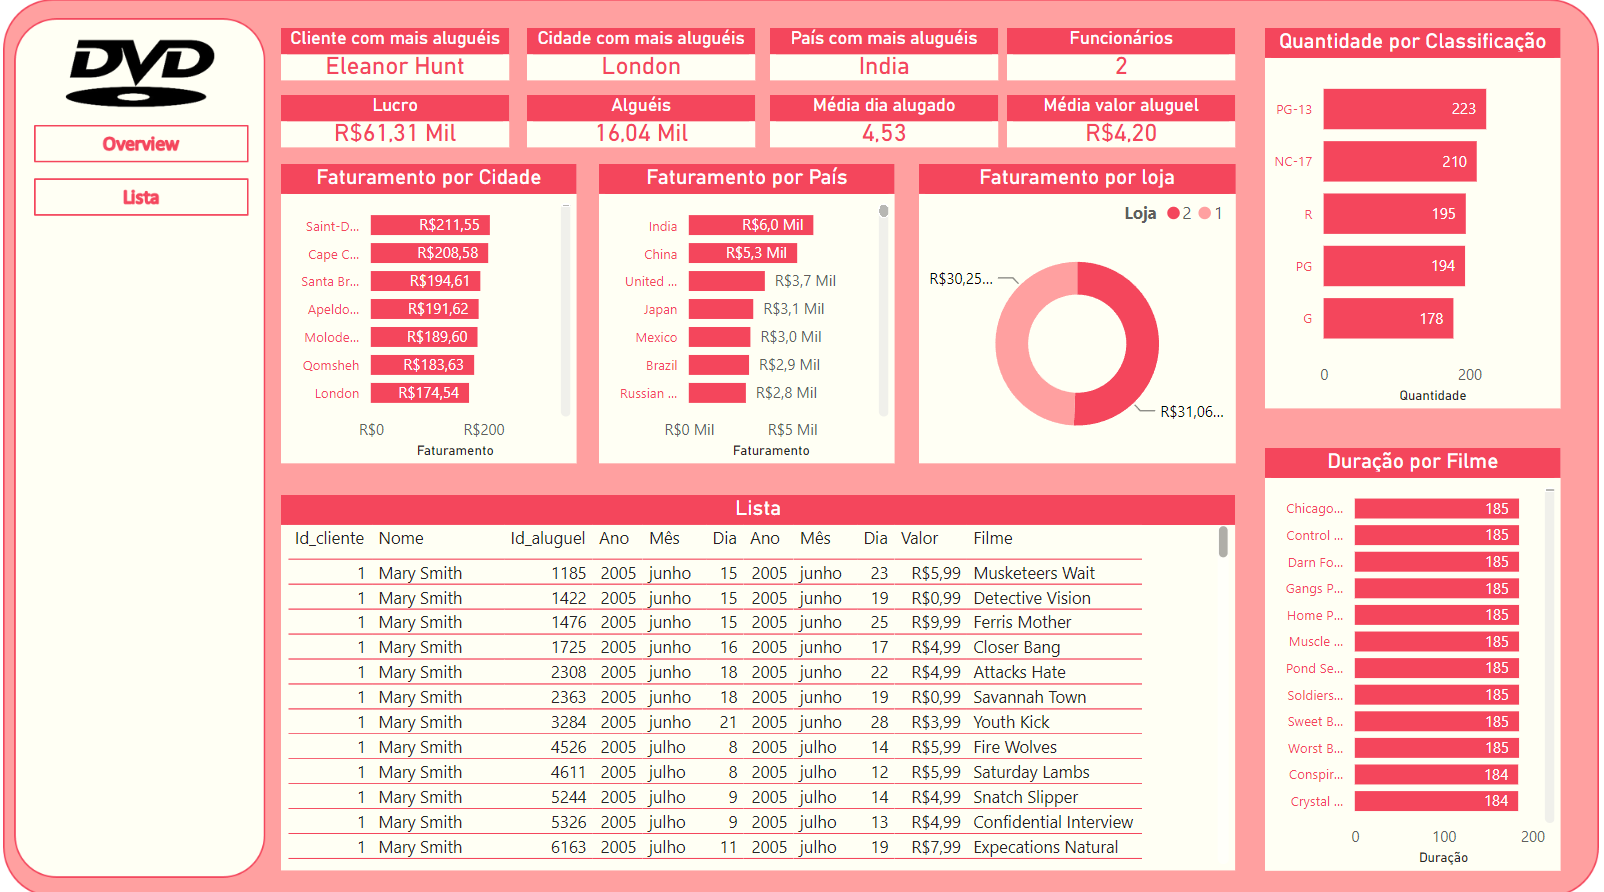

Layout of this report page (visuals, bound fields, positions):
{"tool":"powerbi","page":{"name":"Overview","canvas":[1280,720],"ordinal":0},"visuals":[{"type":"card","title":"Cliente com mais aluguéis","fields":{"Values":["public vw_get_frequent_customers.get_frequent_customer"]},"box":[223.1,23.5,183.1,42],"z":0},{"type":"card","title":"Cidade com mais aluguéis","fields":{"Values":["public vw_get_city_with_more_clients.get_frequent_city"]},"box":[420.5,23.5,183.1,42],"z":1000},{"type":"card","title":"País com mais aluguéis","fields":{"Values":["public vw_get_country_with_more_clients.get_frequent_country"]},"box":[614.9,23.5,183.1,42],"z":2000},{"type":"card","title":"Lucro","fields":{"Values":["Sum(public payment.amount)"]},"box":[223.1,76.7,183.1,42],"z":3000},{"type":"card","title":"Alguéis","fields":{"Values":["CountNonNull(public rental.rental_id)"]},"box":[420.5,76.7,183.1,42],"z":4000},{"type":"card","title":"Funcionários","fields":{"Values":["CountNonNull(public staff.staff_id)"]},"box":[805.2,23.5,183.1,42],"z":5000},{"type":"barChart","fields":{"Category":["public vw_get_amount_per_city.city"],"Y":["Sum(public vw_get_amount_per_city.total_amount)"]},"box":[223.1,132,237.4,240.4],"z":6000},{"type":"barChart","fields":{"Category":["public vw_get_amount_per_country.country"],"Y":["Sum(public vw_get_amount_per_country.total_amount)"]},"box":[477.8,132,237.4,240.4],"z":7000},{"type":"donutChart","title":"Faturamento por loja","fields":{"Category":["public staff.store_id"],"Y":["Sum(public payment.amount)"]},"box":[734.6,132,253.7,240.4],"z":8000},{"type":"card","title":"Média dia alugado","fields":{"Values":["Avg(public vw_get_avg_rental_time.mean_day_rental)"]},"box":[614.9,76.7,183.1,42],"z":9000},{"type":"card","title":"Média valor aluguel","fields":{"Values":["Avg(public vw_get_avg_rental_amount.mean_payment)"]},"box":[805.2,76.7,183.1,42],"z":10000},{"type":"tableEx","title":"Lista","fields":{"Values":["public customer.customer_id","public customer.full_name","public rental.rental_id","public rental.rental_date.Variation.Hierarquia de datas.Ano","public rental.rental_date.Variation.Hierarquia de datas.Mês","public rental.rental_date.Variation.Hierarquia de datas.Dia","public rental.return_date.Variation.Hierarquia de datas.Ano","public rental.return_date.Variation.Hierarquia de datas.Mês","public rental.return_date.Variation.Hierarquia de datas.Dia","Sum(public payment.amount)","public film.title"]},"box":[223.1,398,765.3,300.8],"z":11000},{"type":"barChart","title":"Quantidade por Classificação","fields":{"Y":["CountNonNull(public vw_get_higher_rating_film.rating)"],"Category":["public vw_get_higher_rating_film.rating"]},"box":[1011.9,23.5,237.4,304.9],"z":12000},{"type":"barChart","title":"Duração por Filme","fields":{"Y":["Sum(public vw_get_higher_duration_filme.length)"],"Category":["public vw_get_higher_duration_filme.title"]},"box":[1011.9,360.2,237.4,338.7],"z":13000},{"type":"actionButton","box":[26.6,98.2,168.8,33.8],"z":14000},{"type":"actionButton","box":[26.6,142.2,168.8,33.8],"z":15000}]}

Visuals, with their boxes in screenshot pixels (x1, y1, x2, y2), scaled from the page's 1280x720 canvas onto the 1604x892 screenshot:
"Cliente com mais aluguéis" card: region(280, 29, 509, 81)
"Cidade com mais aluguéis" card: region(527, 29, 756, 81)
"País com mais aluguéis" card: region(771, 29, 1000, 81)
"Lucro" card: region(280, 95, 509, 147)
"Alguéis" card: region(527, 95, 756, 147)
"Funcionários" card: region(1009, 29, 1238, 81)
barChart - public vw_get_amount_per_city.city x Sum(public vw_get_amount_per_city.total_amount): region(280, 164, 577, 461)
barChart - public vw_get_amount_per_country.country x Sum(public vw_get_amount_per_country.total_amount): region(599, 164, 896, 461)
"Faturamento por loja" donutChart: region(921, 164, 1238, 461)
"Média dia alugado" card: region(771, 95, 1000, 147)
"Média valor aluguel" card: region(1009, 95, 1238, 147)
"Lista" tableEx: region(280, 493, 1239, 866)
"Quantidade por Classificação" barChart: region(1268, 29, 1566, 407)
"Duração por Filme" barChart: region(1268, 446, 1566, 866)
actionButton: region(33, 122, 245, 164)
actionButton: region(33, 176, 245, 218)
